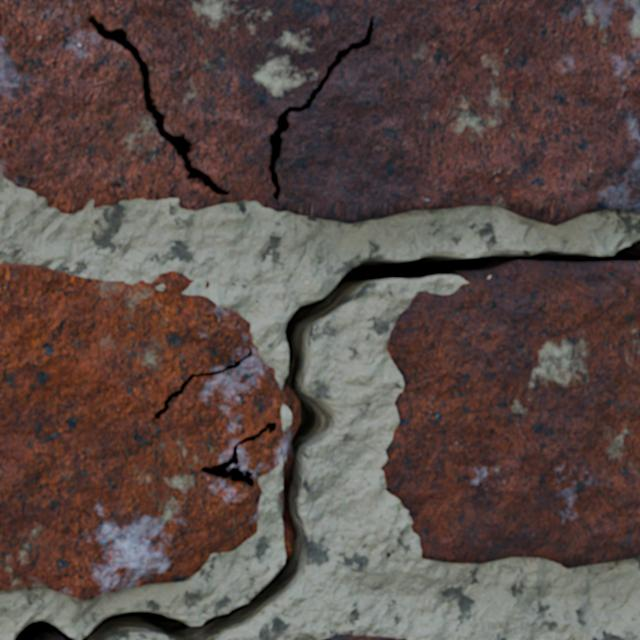crack: (0, 239, 639, 639), (0, 0, 639, 225), (14, 619, 72, 639), (324, 634, 395, 639)
